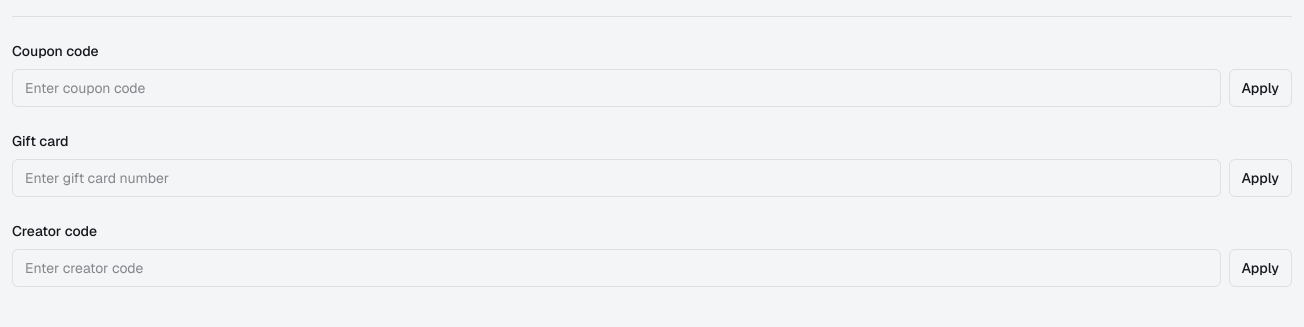
Test case: PromoCodes — creator code (single-entry, replaces rather than lists) › shows the specific error message when applying a creator code fails
Type "FakeCreator" into the field labelled "creator code" at (616, 268), box [12,249,1220,287]
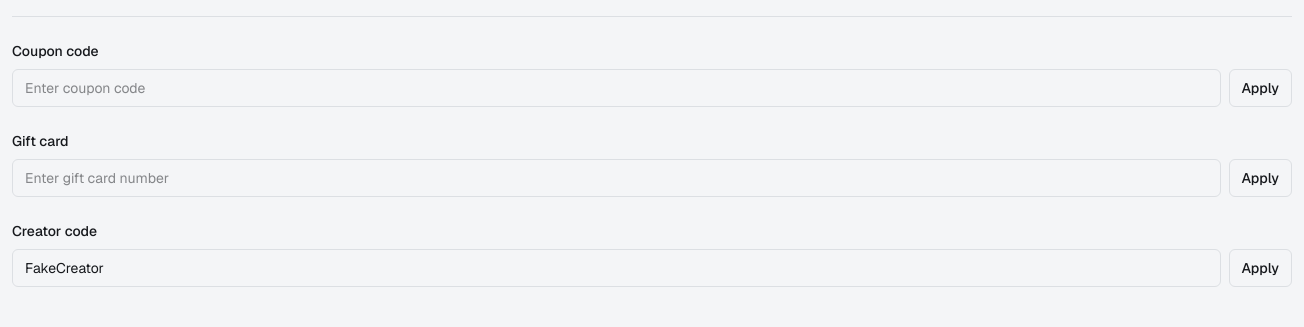
Click the 3rd button "Apply" at (1260, 268), box [1228,249,1292,287]
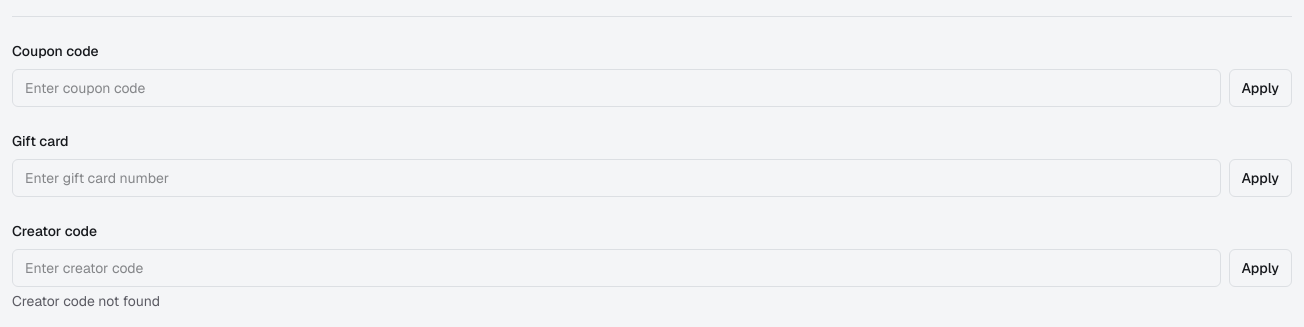
Result: the text "Creator code not found" is shown at [12,292,160,310]
